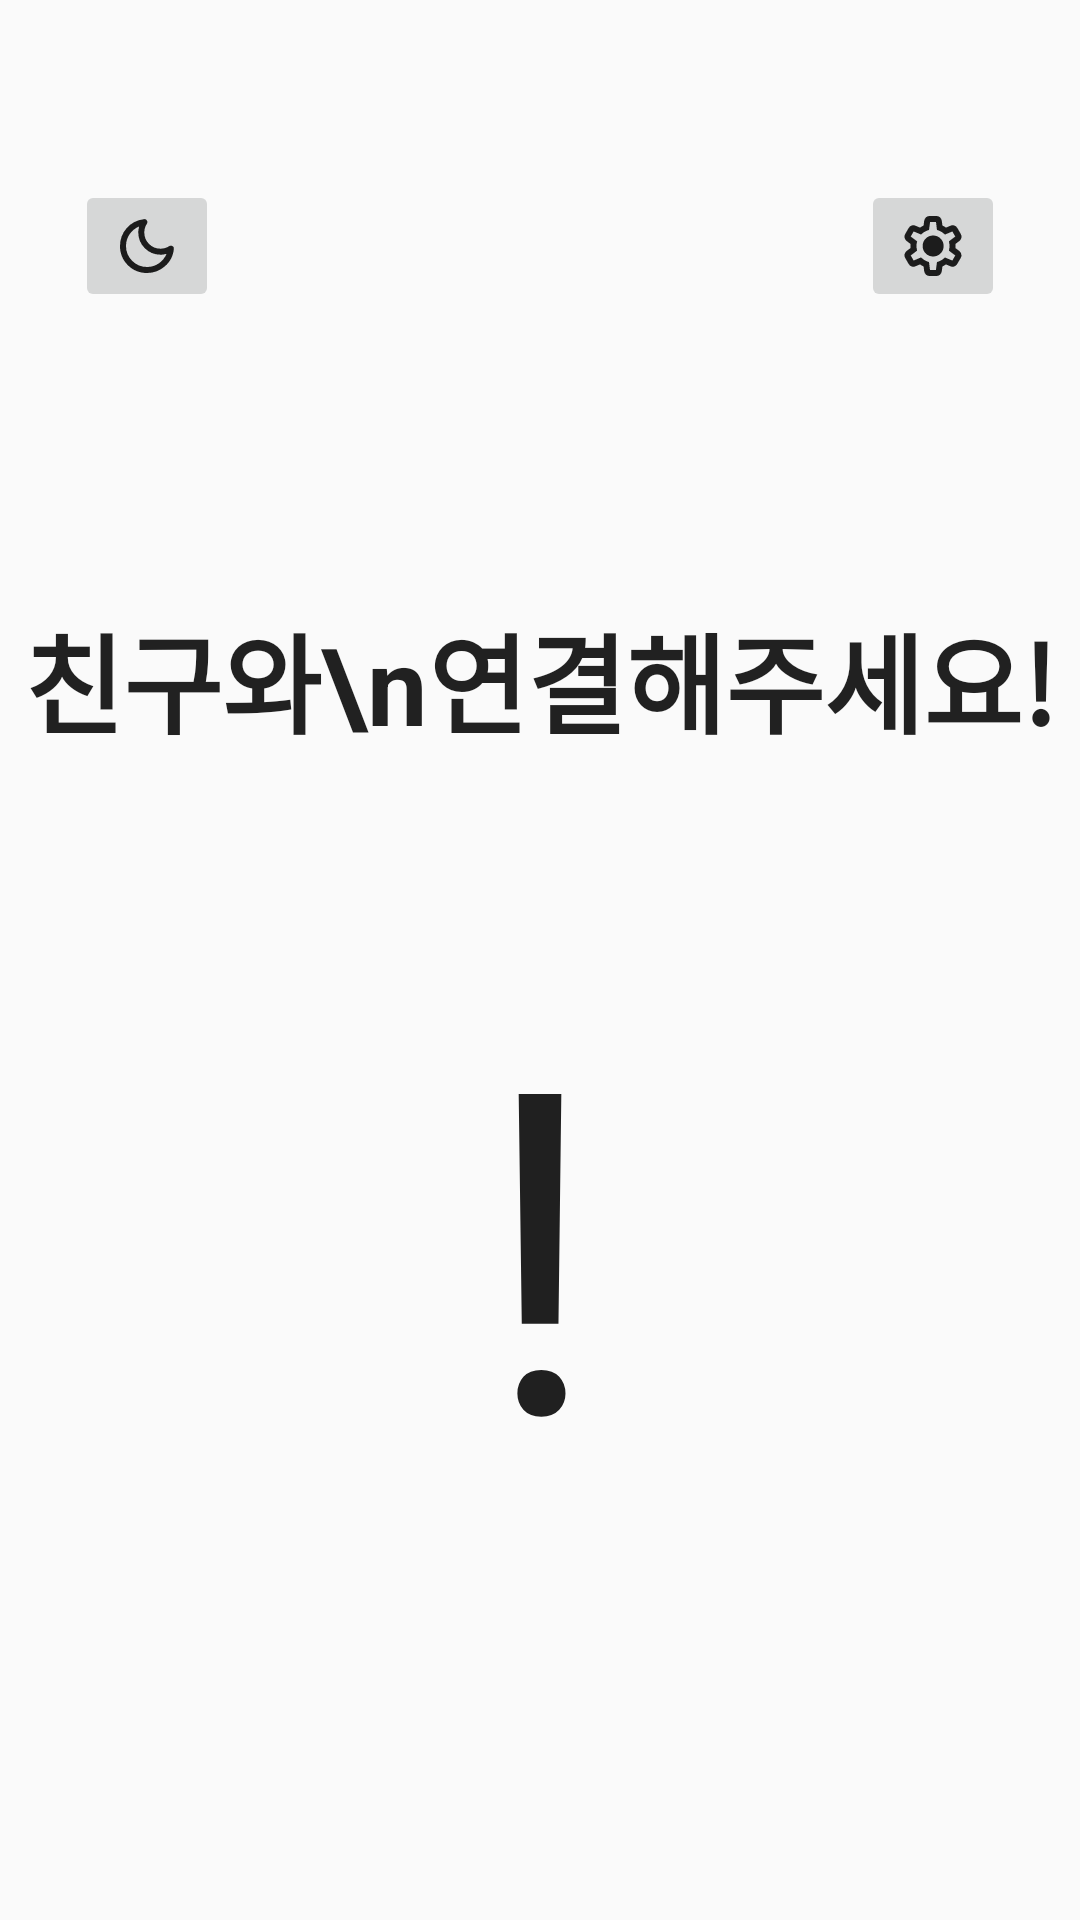

Named icons in this screenshot (1080x1920) and their centers, [x,y]:
darkmode: [147,246]
setting: [933,246]
